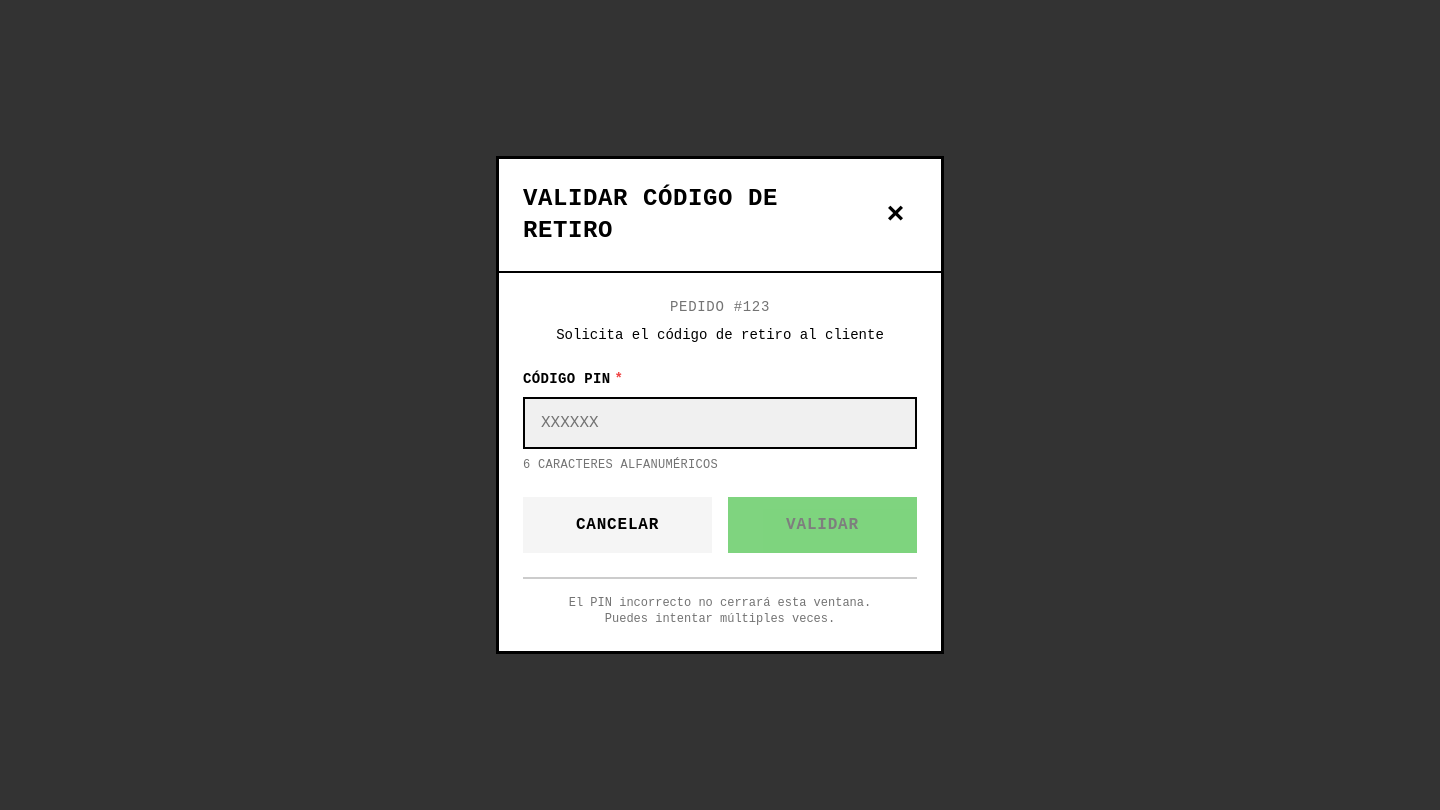
Test case: PinValidationModal - Critical Flow › clears input after failed validation
The width and height of the screenshot is (1440, 810).
In the field with placeholder "XXXXXX": x=720, y=423 left=523, top=397, right=917, bottom=449, type "WRONG1"
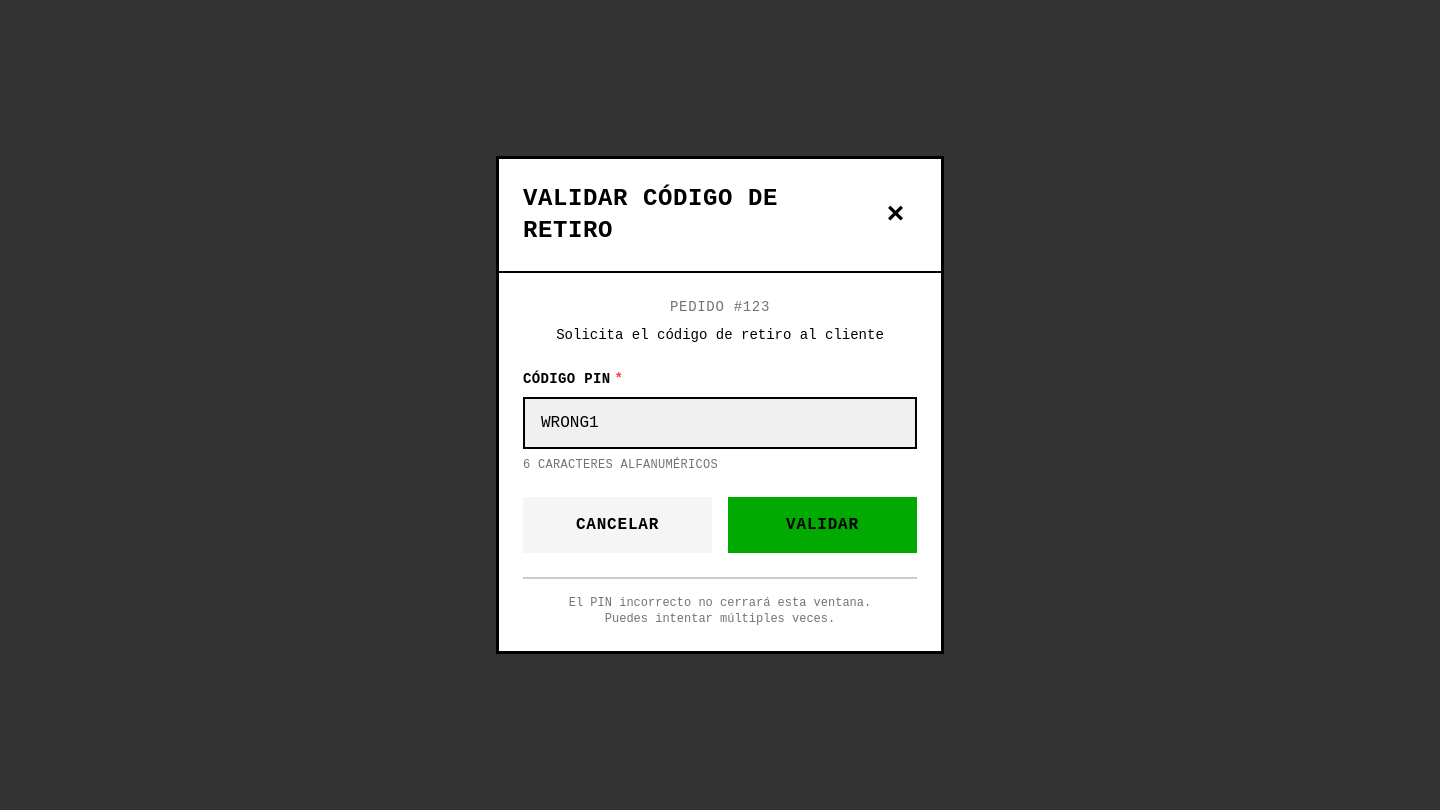
Click the button "VALIDAR": x=822, y=525 left=728, top=497, right=917, bottom=553
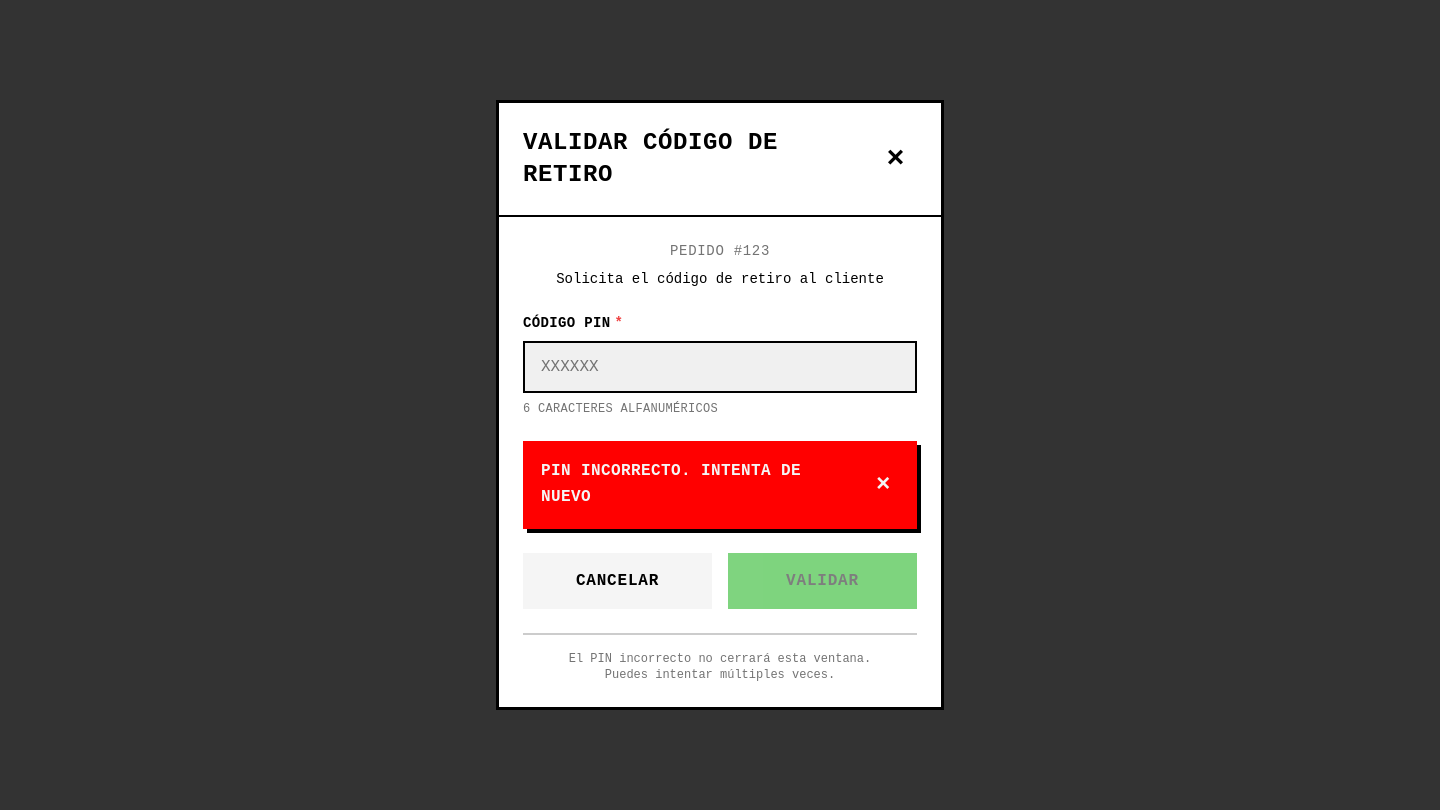
Expected: the field with placeholder "XXXXXX" is empty, left=523, top=341, right=917, bottom=393
